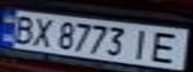3: (106, 25, 130, 58)
7: (69, 20, 93, 53), (87, 21, 109, 55)
8: (51, 18, 75, 52)
B: (6, 12, 39, 44)
E: (145, 29, 190, 64)
I: (127, 26, 160, 61)
X: (27, 16, 57, 48)
